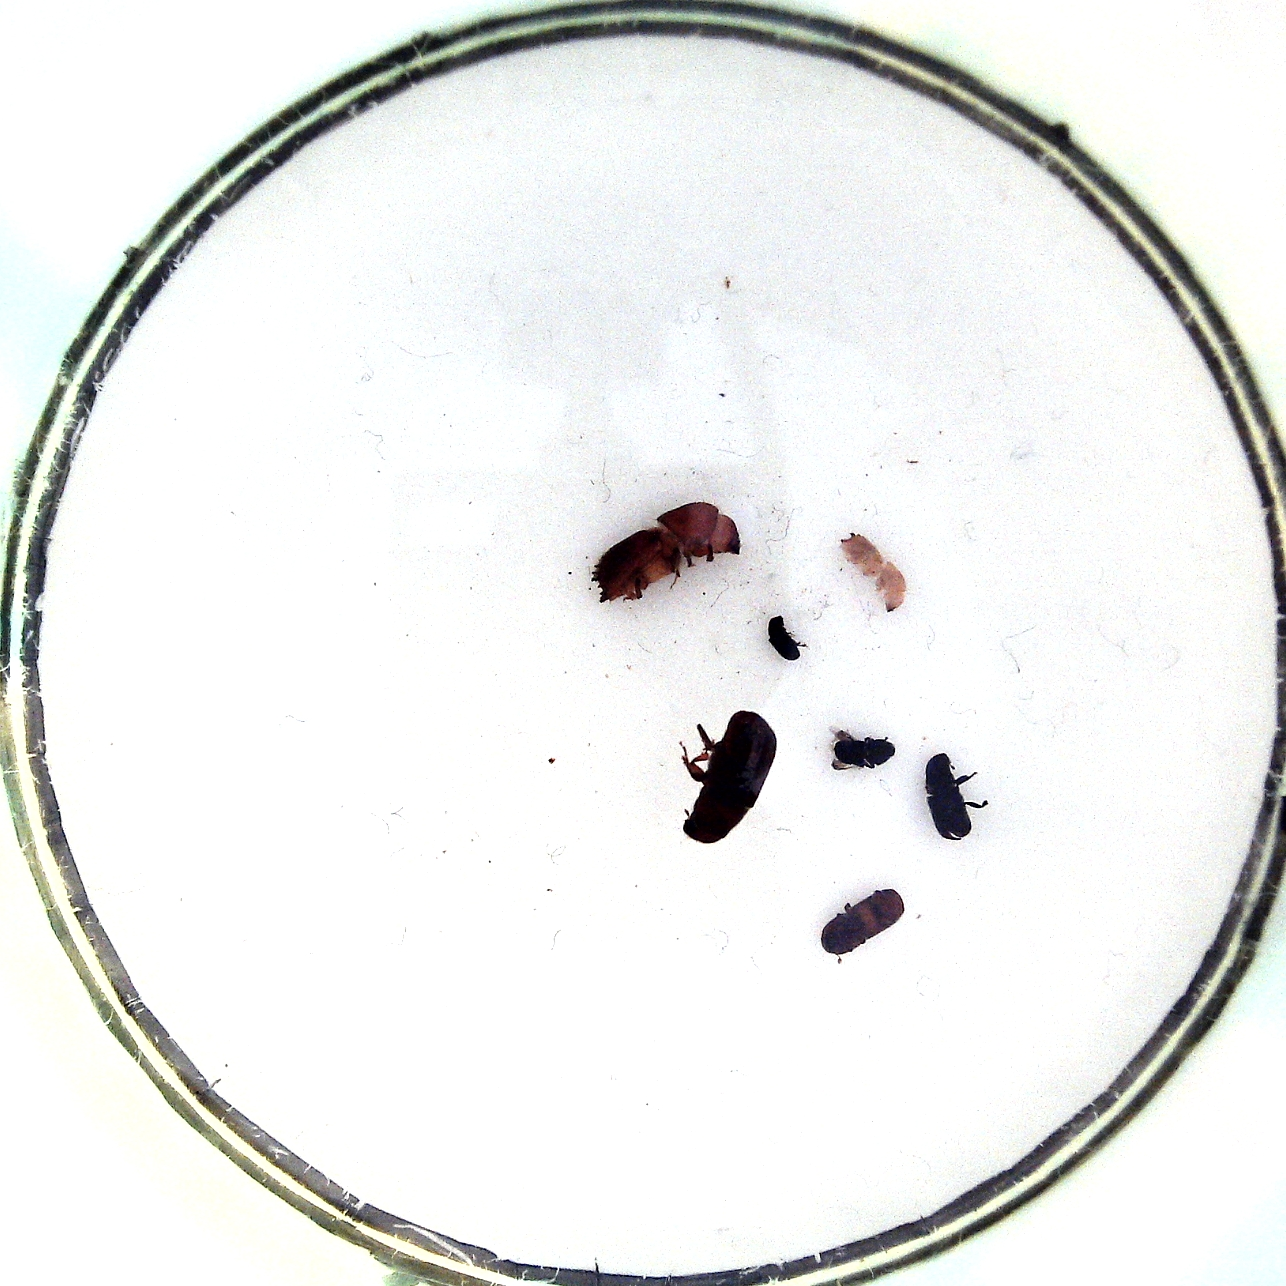Boerner: (586, 499, 745, 606)
Leconte: (669, 704, 785, 846)
Linnaeus: (814, 881, 909, 957)
acuminatus: (837, 522, 910, 618)
armandi: (917, 745, 989, 846)
coleoptera: (823, 715, 901, 774), (761, 610, 813, 668)
